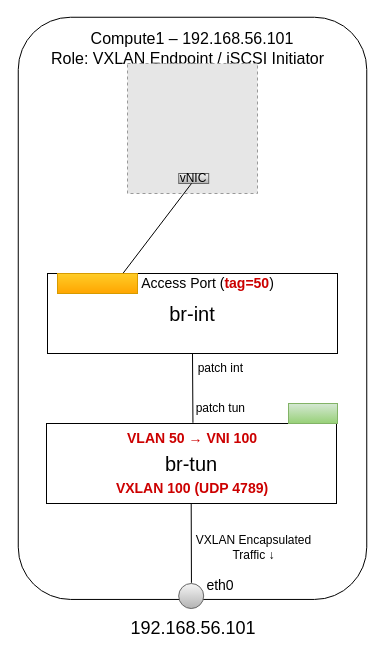
This 384x661 diagram has some shape labels left out. Grey dashed boxes stand in for pictures. The shapes that lost their labels are listed below. From the top down, each one's centre as x and y in pixels, then its label:
the point at 97,283: vnet0 (TAP)
the point at 313,413: RULES
